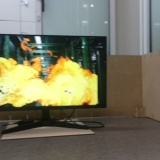fire: (1, 34, 106, 107)
